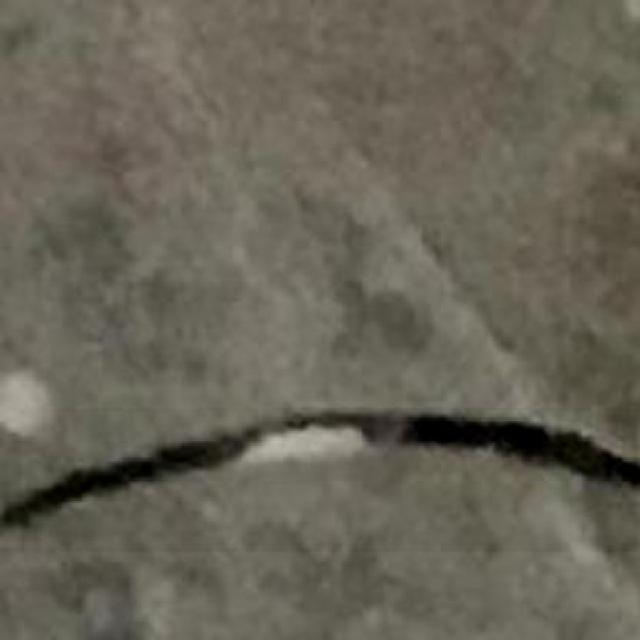Crack: (1, 404, 640, 544)
